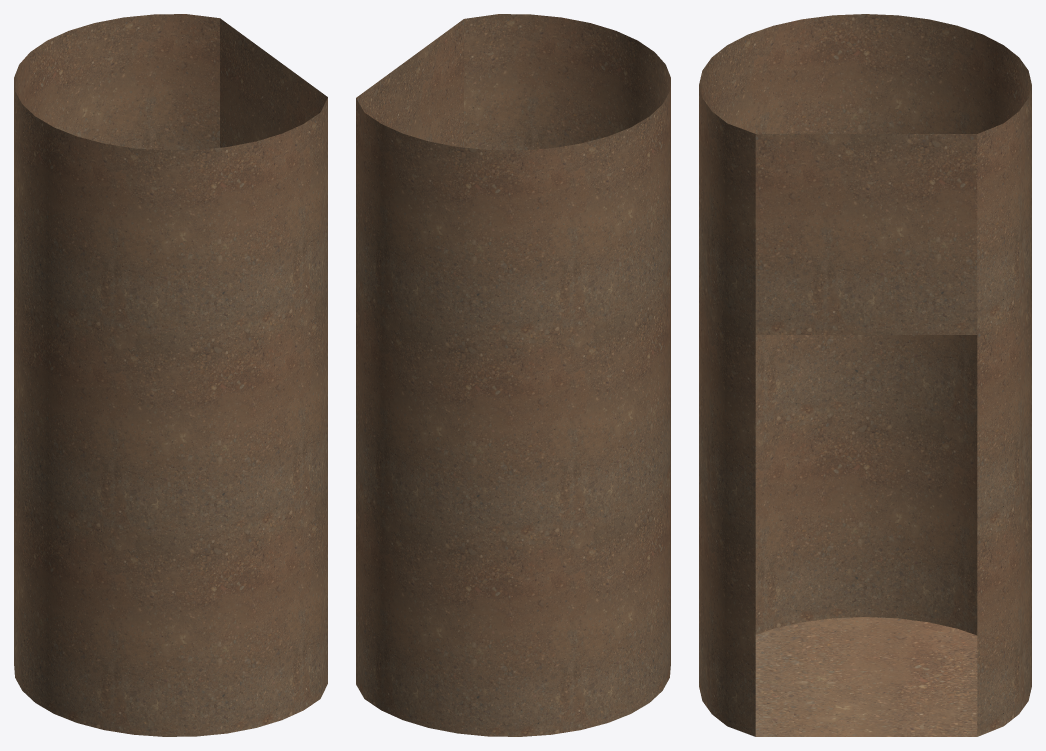
Rendered from SM_Room_Vxod_Dange.fbx.
3 views of the same model, side by side, from view 1: azimuth 30°, elevation 25°; view 2: azimuth 150°, elevation 25°; view 3: azimuth 270°, elevation 25° (orthographic). The views are drawn at different scales.
Visible parts, largest first — view 1: SM_Room_Vxod_Dange; view 2: SM_Room_Vxod_Dange; view 3: SM_Room_Vxod_Dange.
Part boxes in pixels (bbox=[...]): SM_Room_Vxod_Dange: bbox=[14, 14, 327, 736]; SM_Room_Vxod_Dange: bbox=[356, 14, 670, 736]; SM_Room_Vxod_Dange: bbox=[699, 14, 1031, 736].
Size of the model in its own units: 2.56 by 6 by 3.
